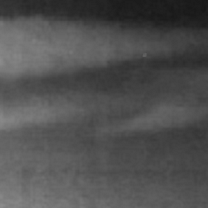Target: (142, 51, 148, 58)
